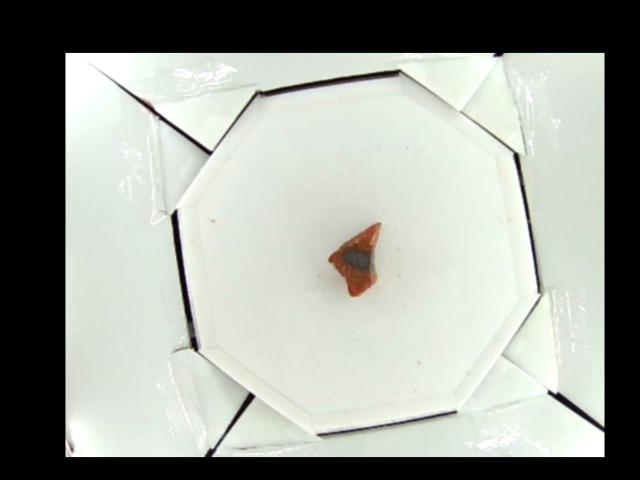Brisk: (328, 220, 383, 297)
